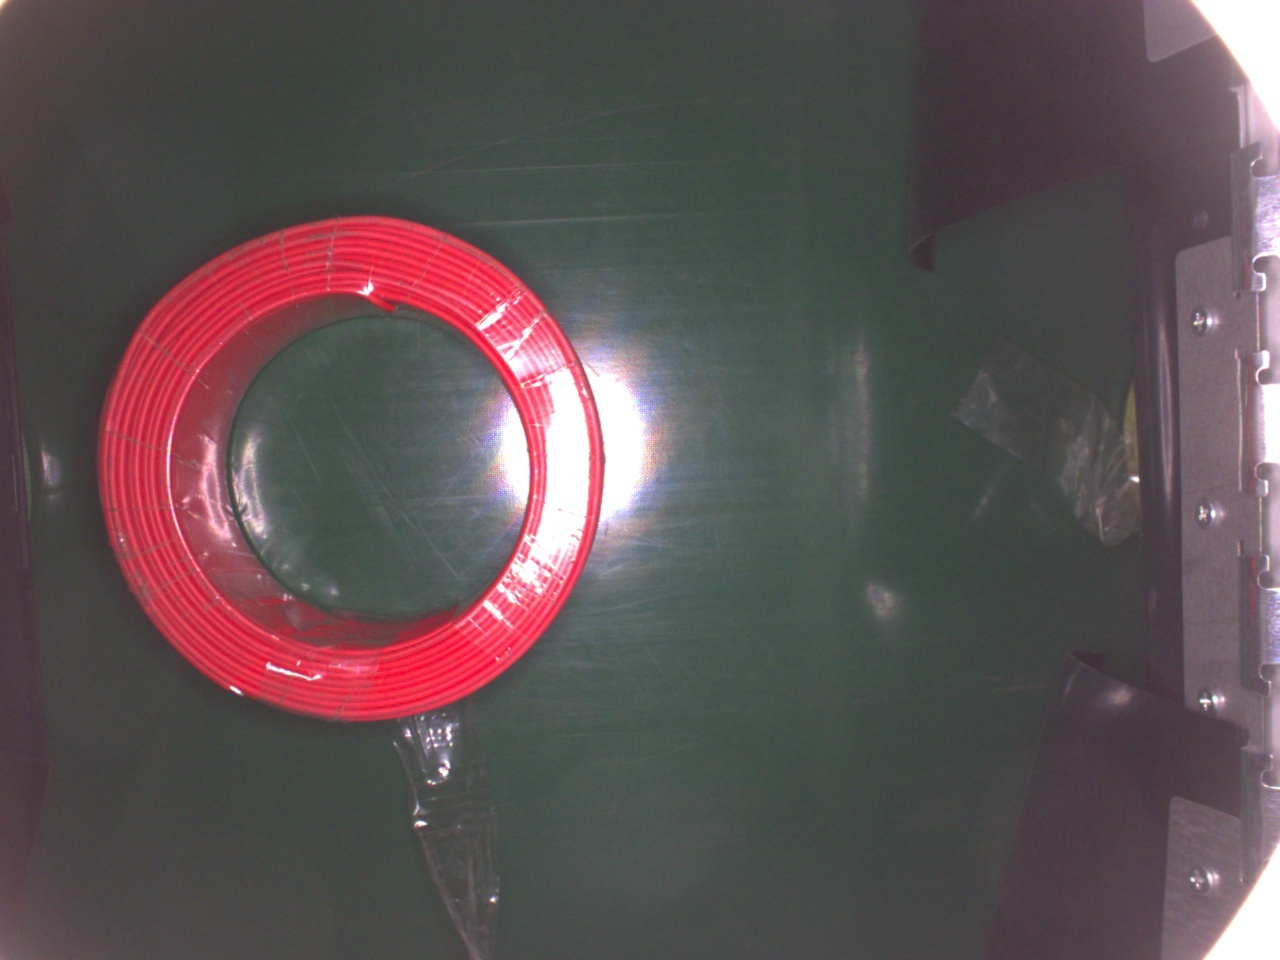red: (99, 210, 601, 731)
